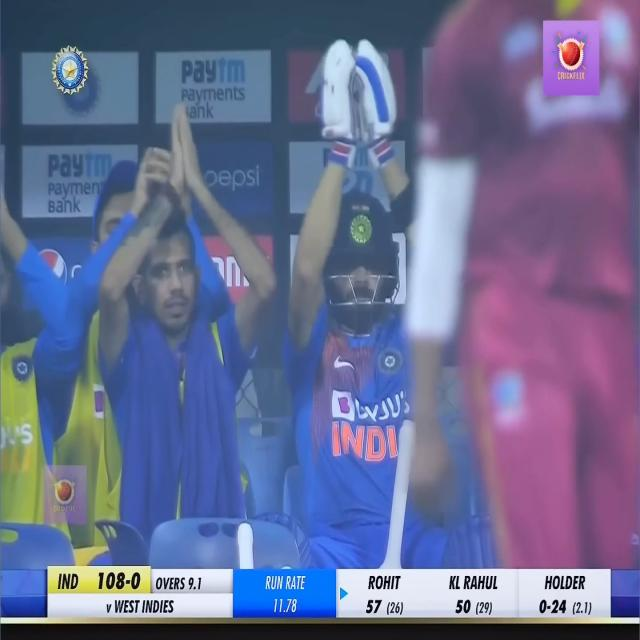fully_visible: (46, 144, 115, 182), (176, 57, 248, 84)
